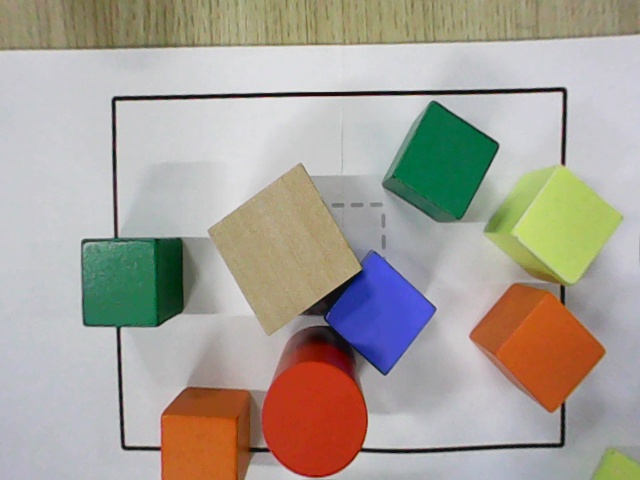upside of big cube: (206, 162, 364, 337)
upside of cylinder: (261, 360, 368, 479)
upside of small cube: (324, 251, 437, 376), (510, 165, 625, 287), (494, 293, 607, 414), (392, 100, 500, 219), (82, 239, 158, 328), (161, 415, 238, 479)
